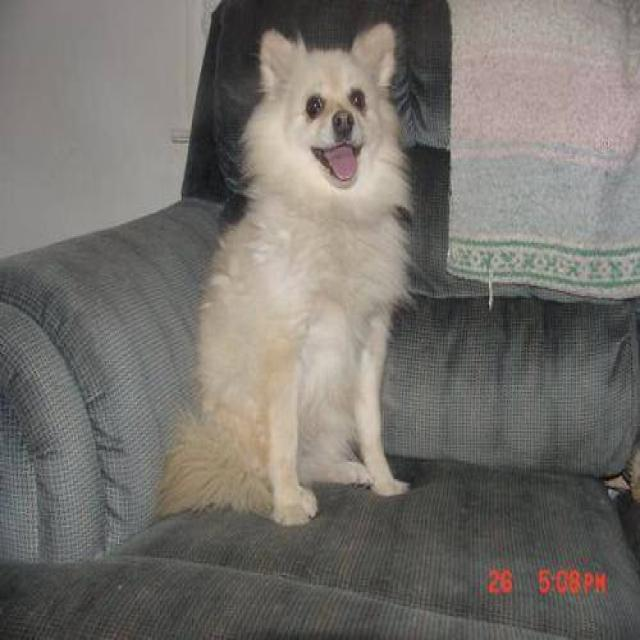dog: (154, 21, 416, 527)
